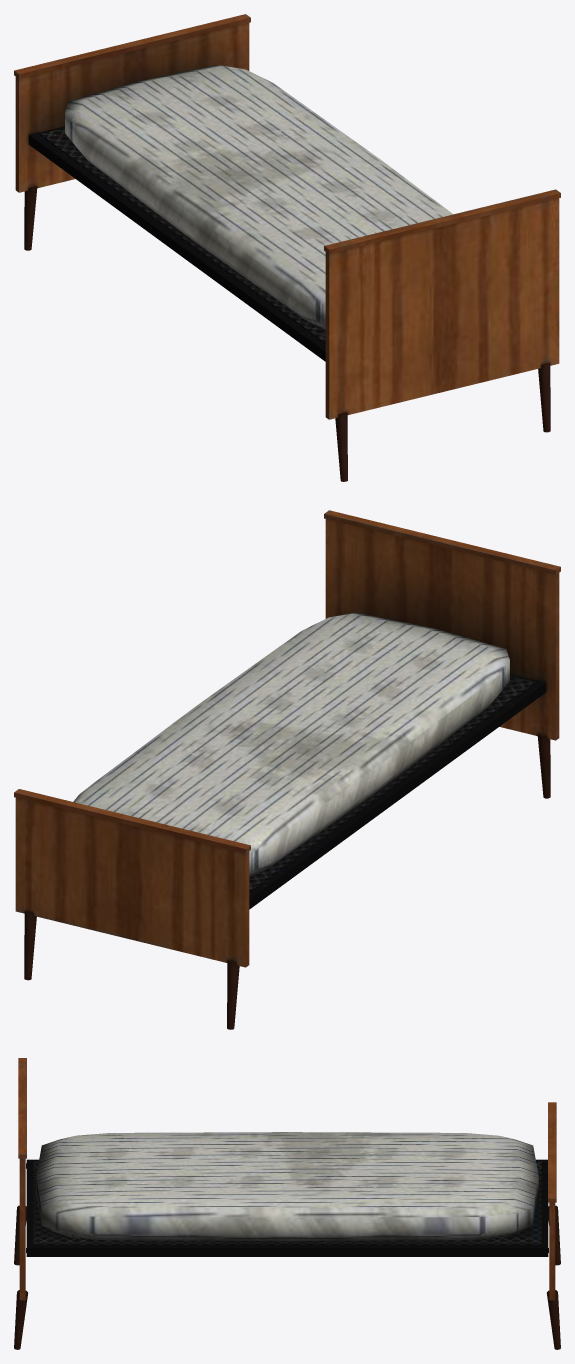
Rendered from bed_pine_metal_lod1_web.glb.
3 views of the same model, one above another, from view 1: azimuth 30°, elevation 25°; view 2: azimuth 150°, elevation 25°; view 3: azimuth 270°, elevation 25° (orthographic). The views are drawn at different scales.
Visible parts, largest first — view 1: BedPineMetal_Mesh; view 2: BedPineMetal_Mesh; view 3: BedPineMetal_Mesh.
Boxes of the visible parts, bbox=[...] form: BedPineMetal_Mesh: bbox=[14, 14, 560, 481]; BedPineMetal_Mesh: bbox=[14, 510, 560, 1029]; BedPineMetal_Mesh: bbox=[14, 1058, 560, 1349].
Size of the model in its own units: 0.846 by 0.8171 by 2.02.
1 material, 1 textured.
